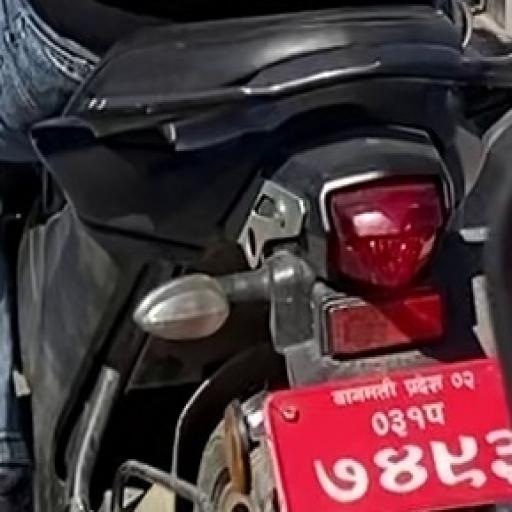license_plate: (261, 345, 510, 510)
